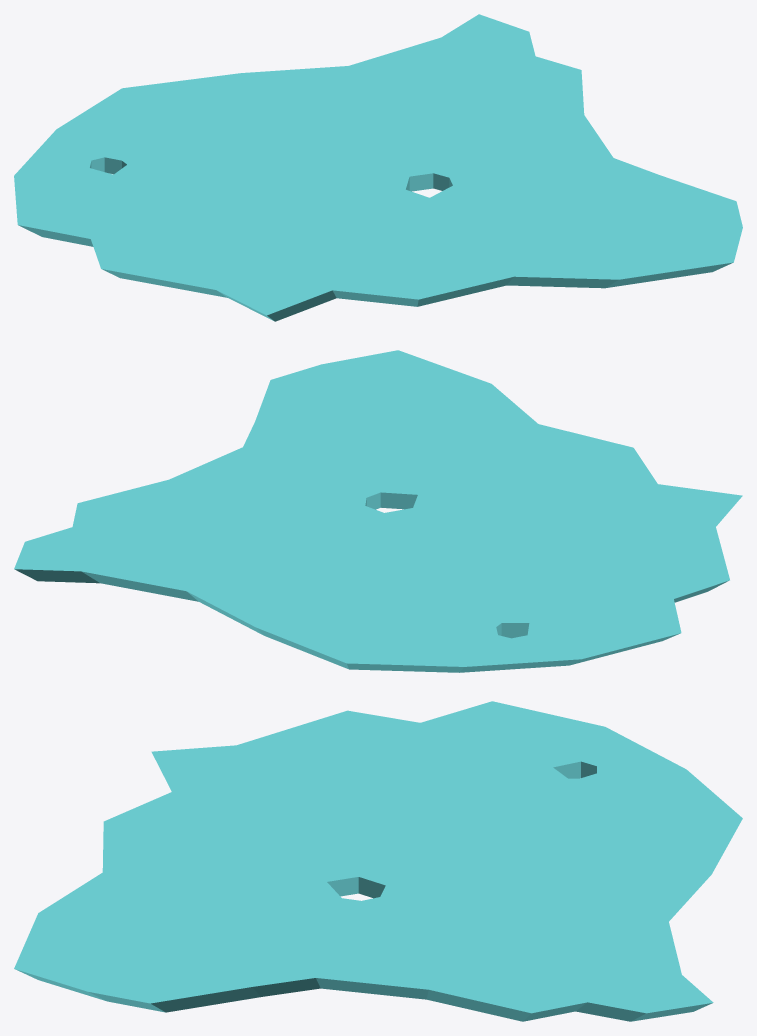
Rendered from Iceberg.fbx.
3 renders of one model, top to bottom at view 1: azimuth 30°, elevation 25°; view 2: azimuth 150°, elevation 25°; view 3: azimuth 270°, elevation 25°, orthographic. The views are drawn at different scales.
Parts seen in each view (by area): view 1: Plane; view 2: Plane; view 3: Plane.
Boxes of the visible parts, x1=… form: Plane: x1=14, y1=14, x2=742, y2=321; Plane: x1=14, y1=350, x2=742, y2=672; Plane: x1=14, y1=701, x2=742, y2=1021.
Size of the model in its own units: 8000 by 200 by 7895.
